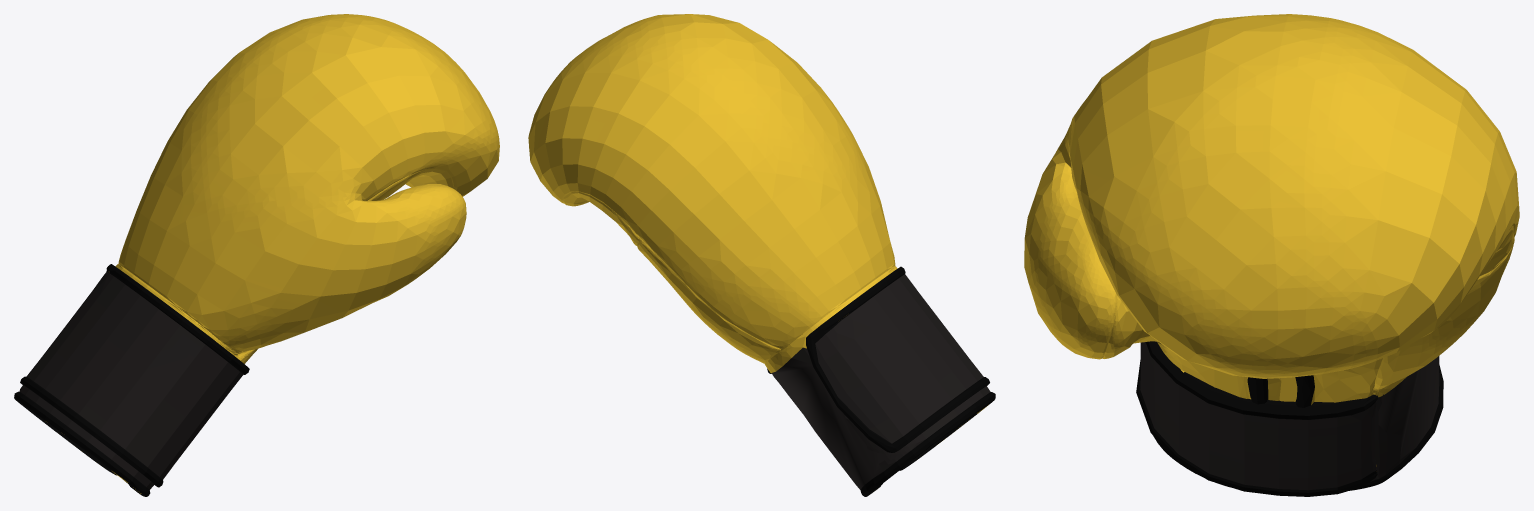
The model's file is Yellow_Left.fbx.
3 renders of one model, left to right at view 1: azimuth 30°, elevation 25°; view 2: azimuth 150°, elevation 25°; view 3: azimuth 270°, elevation 25°, orthographic. The views are drawn at different scales.
Parts seen in each view (by area): view 1: 15969_Boxing_Glove_new; view 2: 15969_Boxing_Glove_new; view 3: 15969_Boxing_Glove_new.
Part boxes in pixels (x1=…): 15969_Boxing_Glove_new: x1=14, y1=14, x2=499, y2=496; 15969_Boxing_Glove_new: x1=528, y1=14, x2=995, y2=496; 15969_Boxing_Glove_new: x1=1024, y1=14, x2=1519, y2=496.
Bounding box in the file's own units: 2146 × 1903 × 1369.
